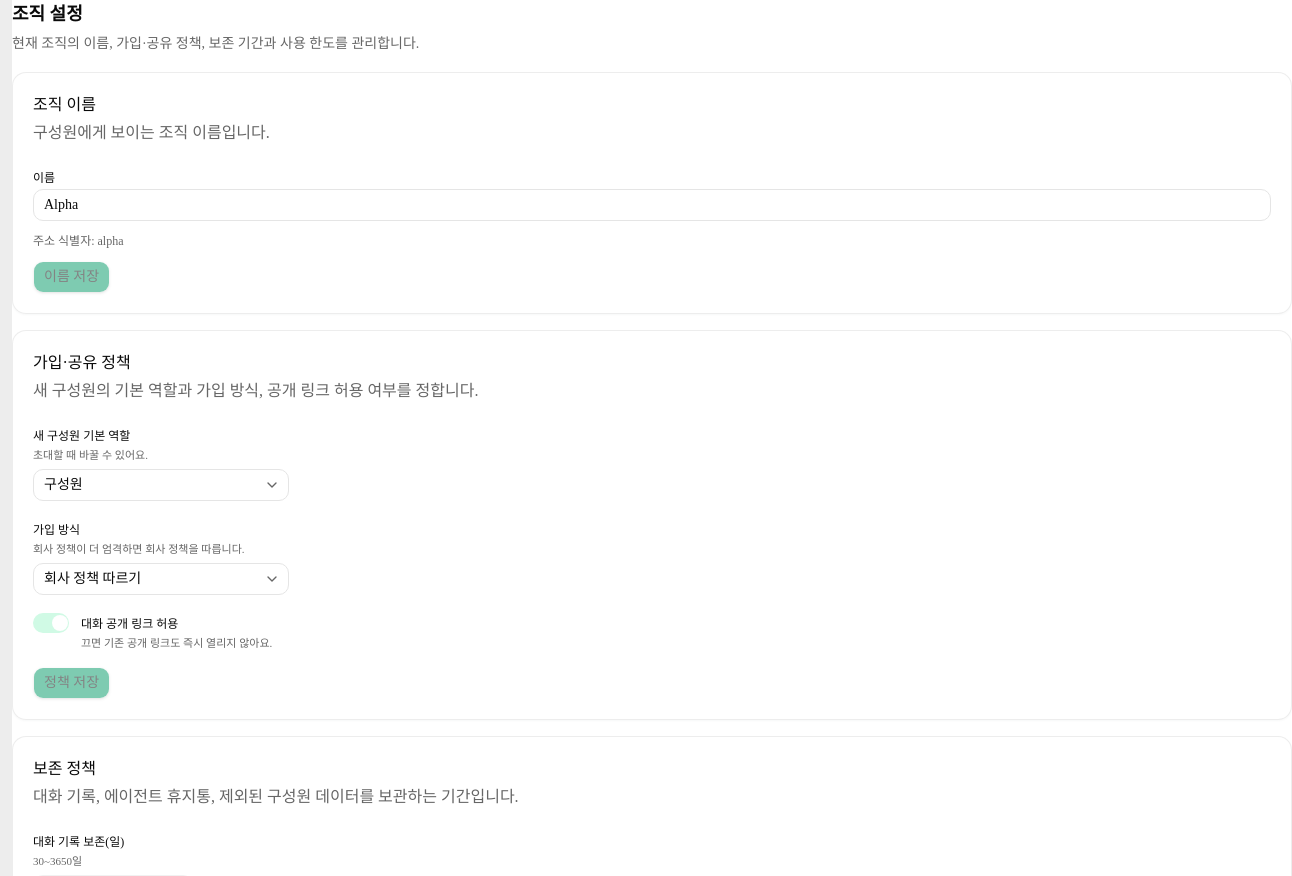
Test case: OrganizationSettingsContent › renames with the org version and surfaces stale_version after refetching
The image size is (1292, 876).
Replace the text in the field labelled "이름" with "Renamed" at (652, 205), box [33, 189, 1271, 221]
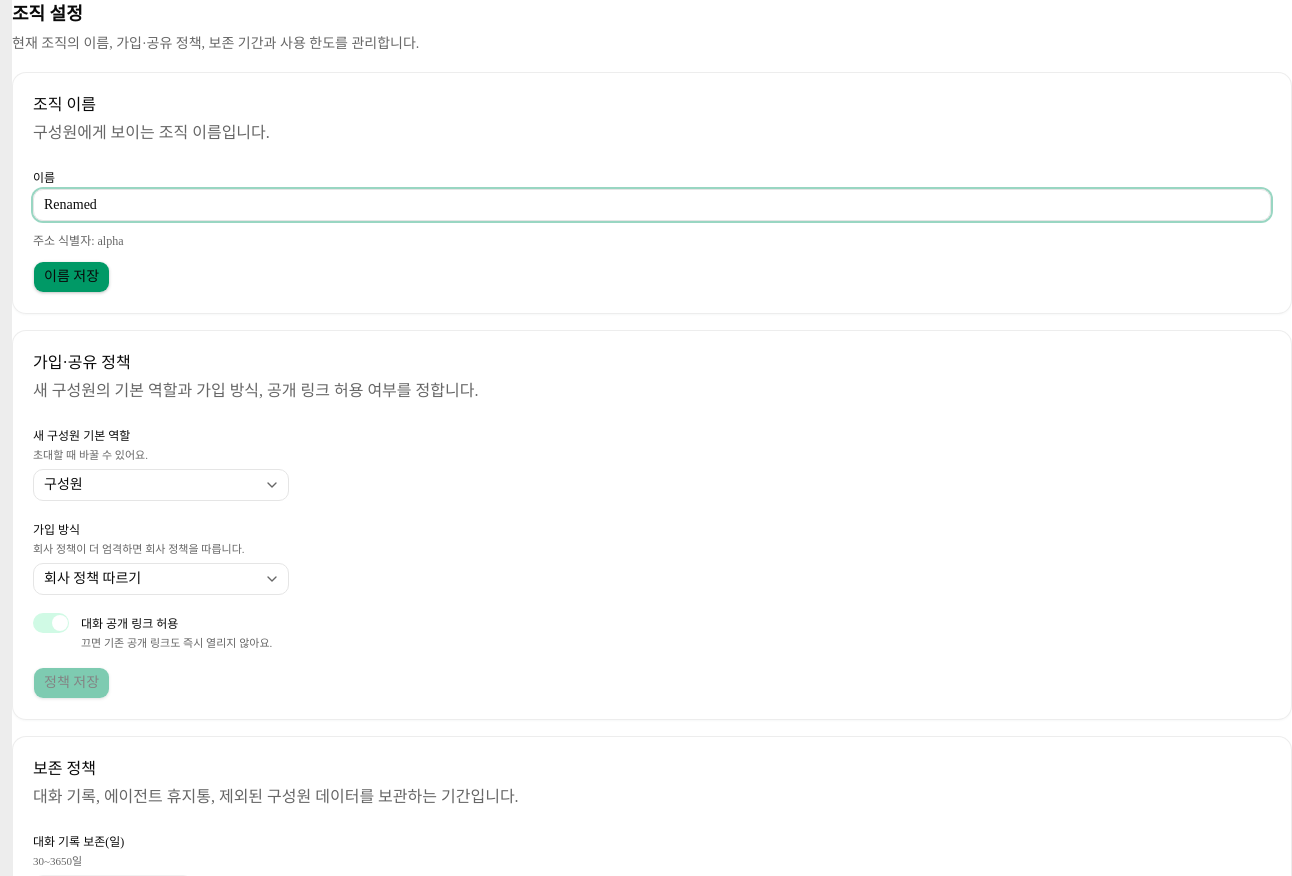
Click the button "이름 저장" at (72, 277), box [33, 261, 110, 293]
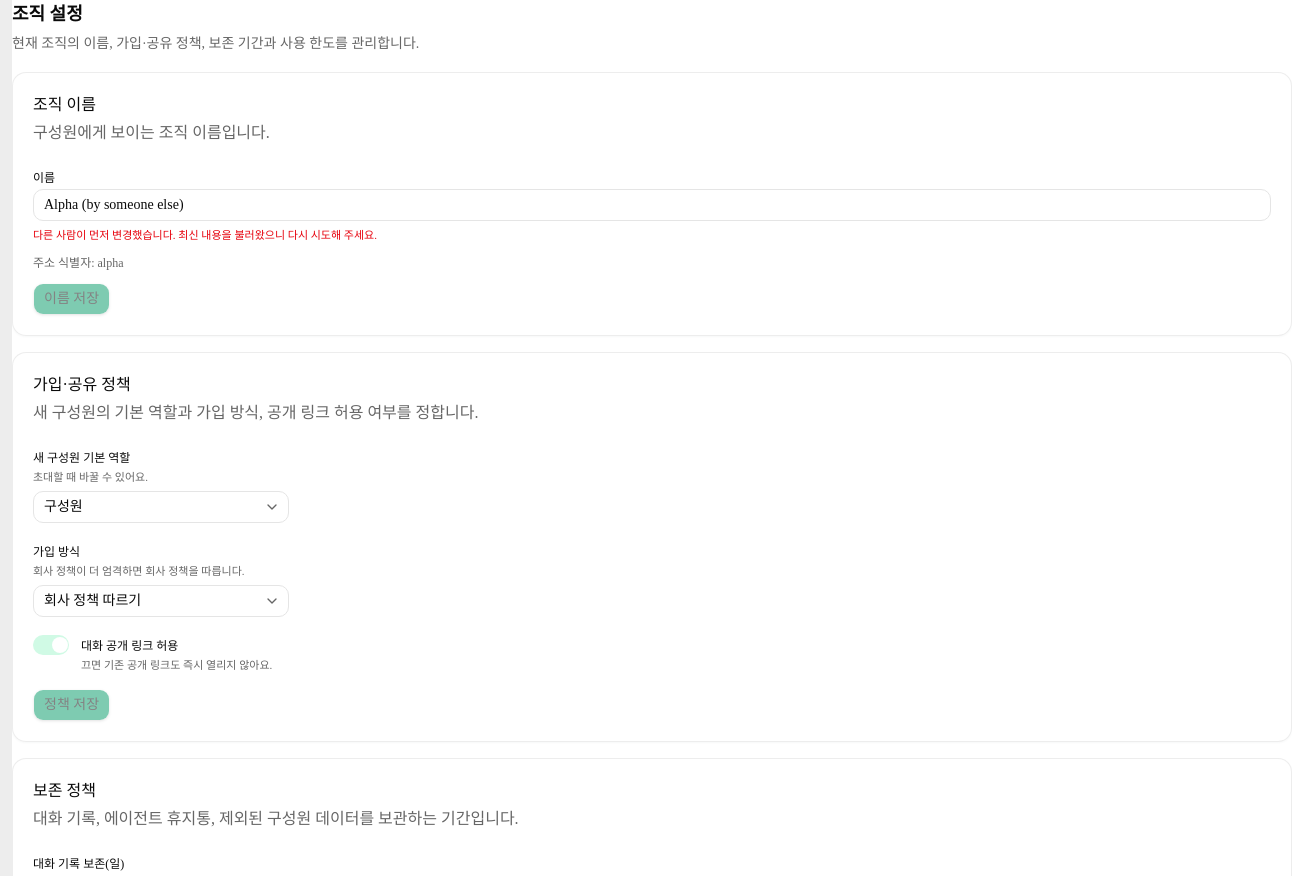
Result: the field showing "Alpha (by someone else)" is shown at [33, 189, 1271, 221]
Result: the text "다른 사람이 먼저 변경했습니다. 최신 내용을 불러왔으니 다시 시도해 주세요." is shown at [33, 229, 377, 241]
